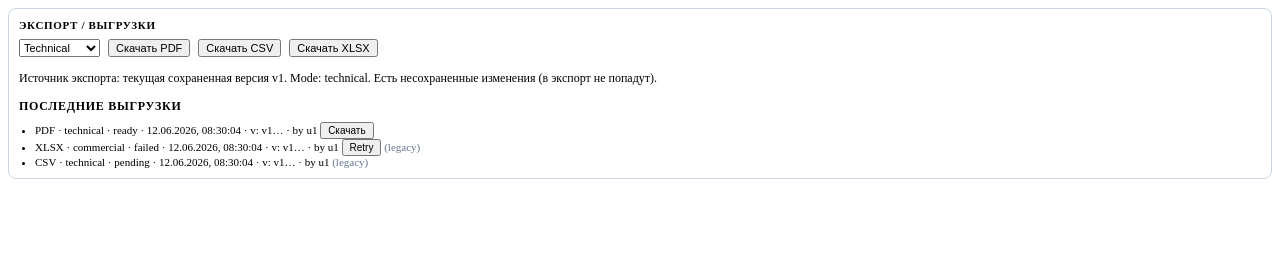
Test: ExportPanel › shows unsaved draft export choice
Click the button "Скачать PDF" at (149, 48), box [108,39,190,57]
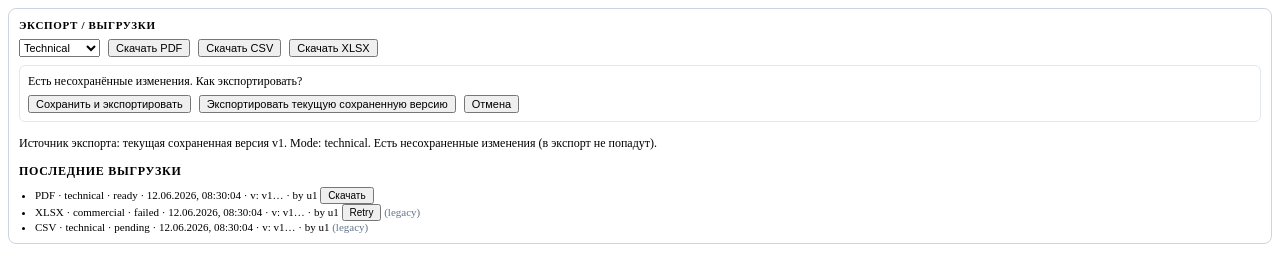
Now the button "Сохранить и экспортировать" is shown, box [28,95,191,113]
Now the button "Экспортировать текущую сохраненную версию" is shown, box [199,95,456,113]
